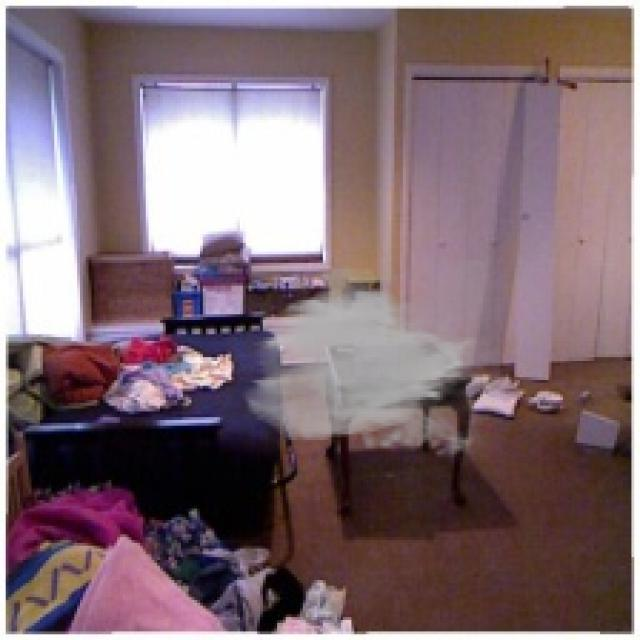smoke: (240, 260, 500, 463)
